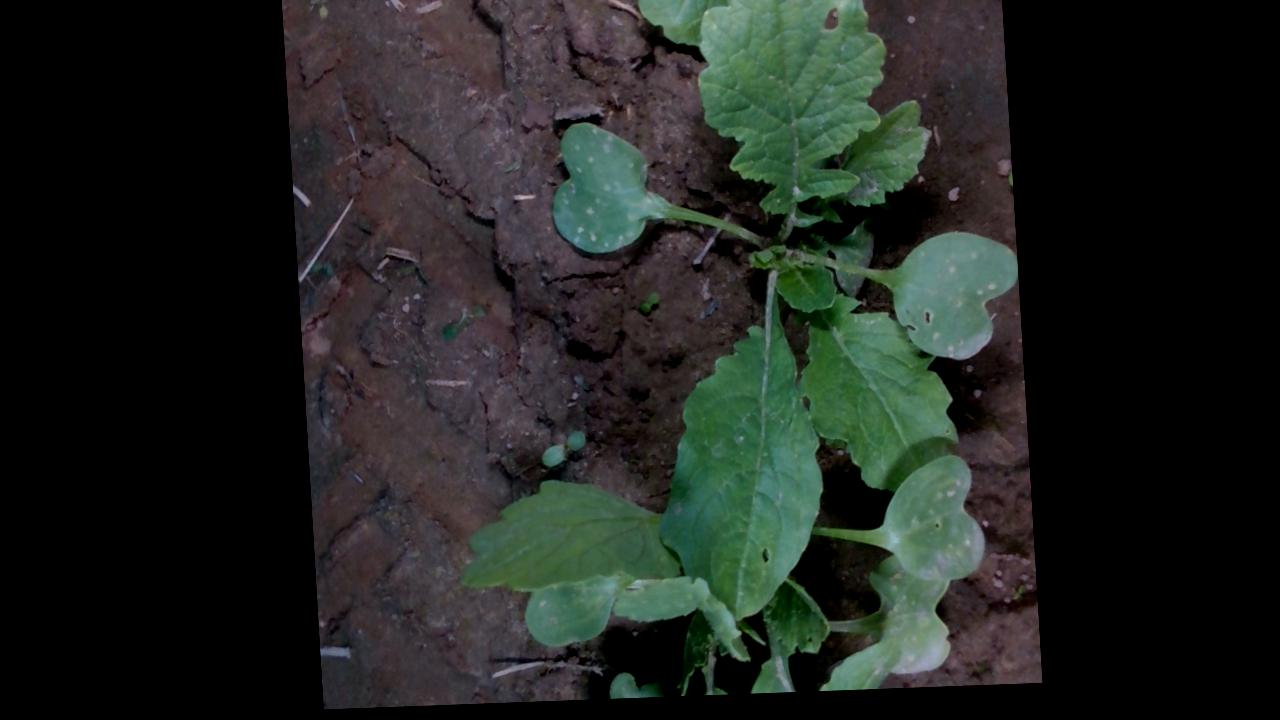weed: (533, 432, 583, 472), (633, 294, 658, 319)
